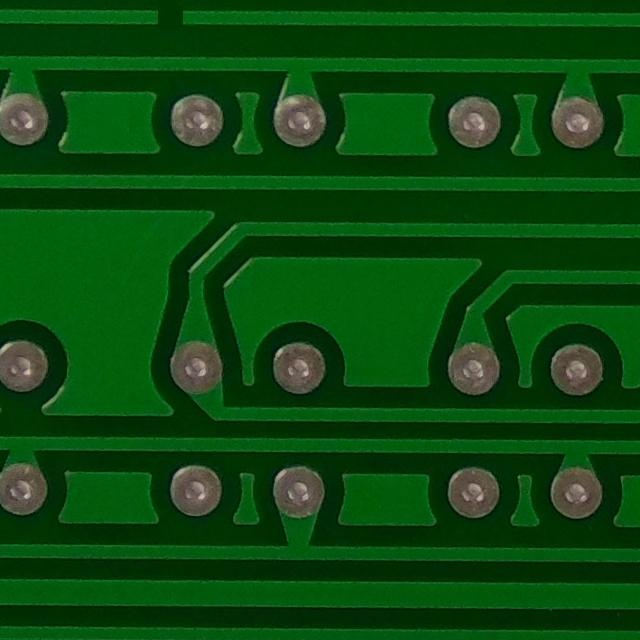open_circuit: (138, 0, 197, 43)
